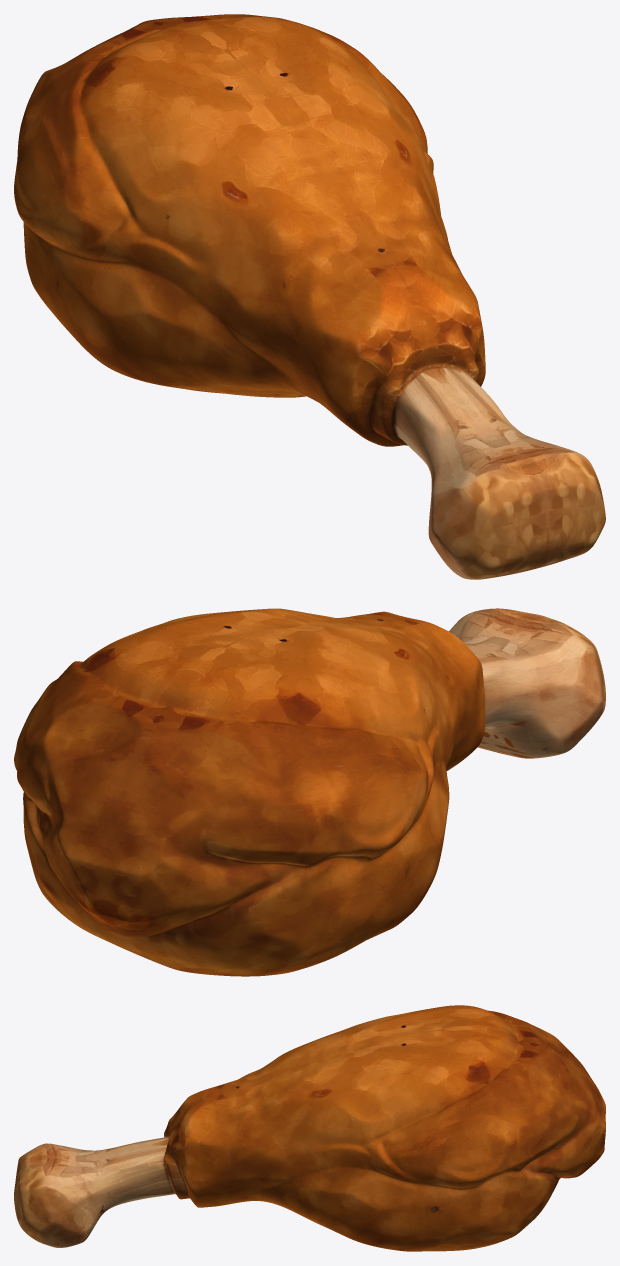
File: Meshy_AI_Ancient_Verdant_Guard_0714163805_texture.fbx
3 renders of one model, top to bottom at view 1: azimuth 30°, elevation 25°; view 2: azimuth 150°, elevation 25°; view 3: azimuth 270°, elevation 25°, orthographic. The views are drawn at different scales.
Visible parts, largest first — view 1: mesh_node; view 2: mesh_node; view 3: mesh_node.
Boxes of the visible parts, bbox=[...] form: mesh_node: bbox=[14, 14, 605, 579]; mesh_node: bbox=[14, 608, 605, 976]; mesh_node: bbox=[14, 1005, 605, 1251].
Size of the model in its own units: 91.62 by 73.87 by 190.
1 material, 1 textured.
